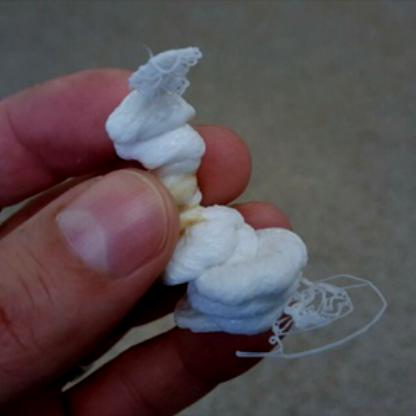fail: (272, 274, 390, 362)
